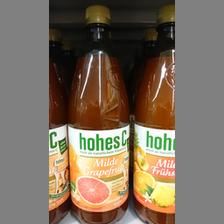Saft: (66, 3, 130, 223), (130, 3, 174, 223)
